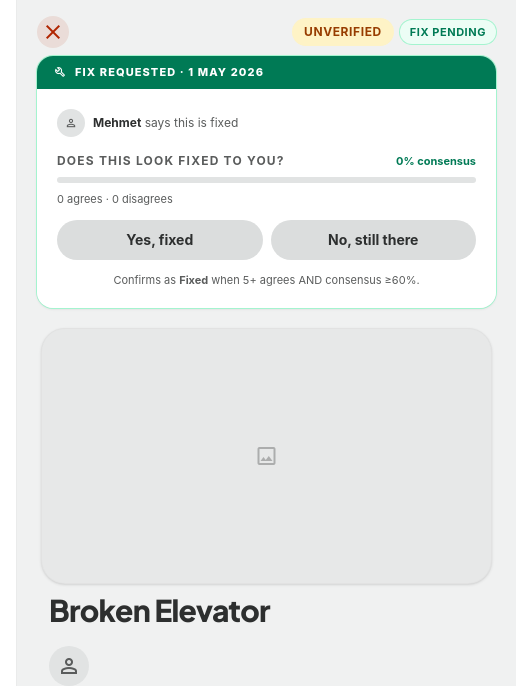
Scenario: ReportPanel › shows an error when voting on the fix request fails
Step 1. Click the button "No, still there" → [373, 240], box [270, 220, 476, 260]
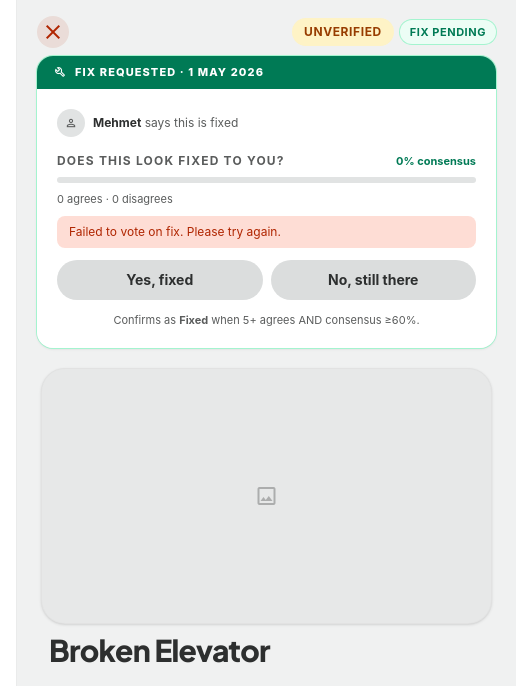
Now the text "Failed to vote on fix. Please try again." is shown, box [57, 216, 476, 248]
